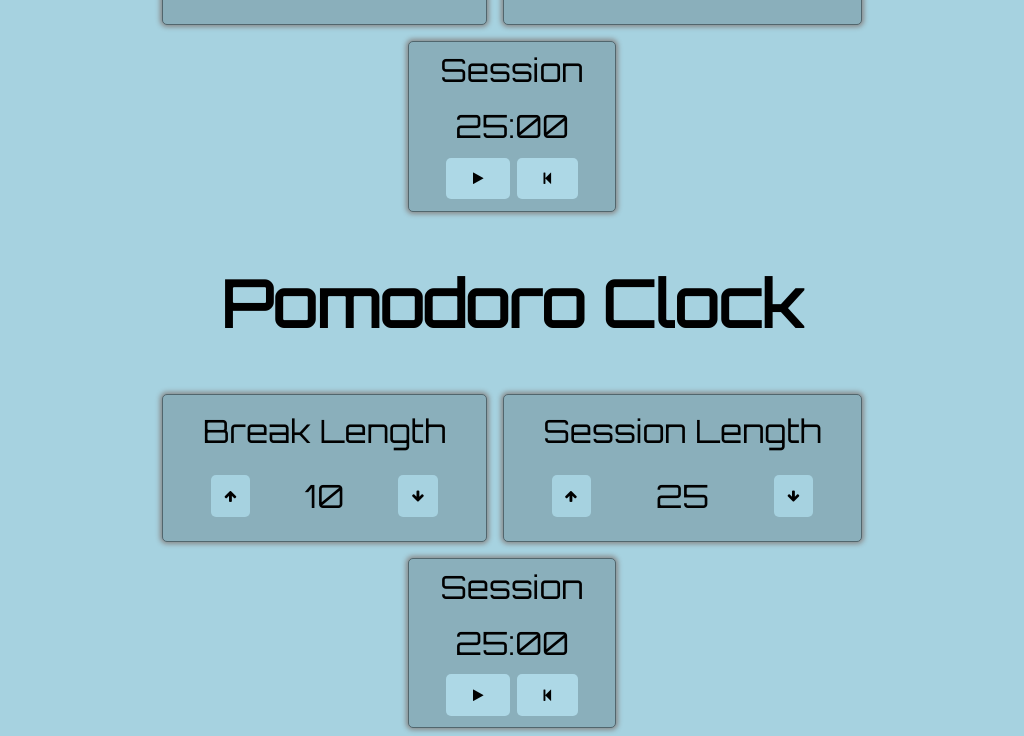
Test case: App tests › Decrements breaklength when break-decrement is clicked, and you can see the updated value
(page scrolled)
Click the button with id "break-decrement" at point(418, 496), box [398,476,438,517]
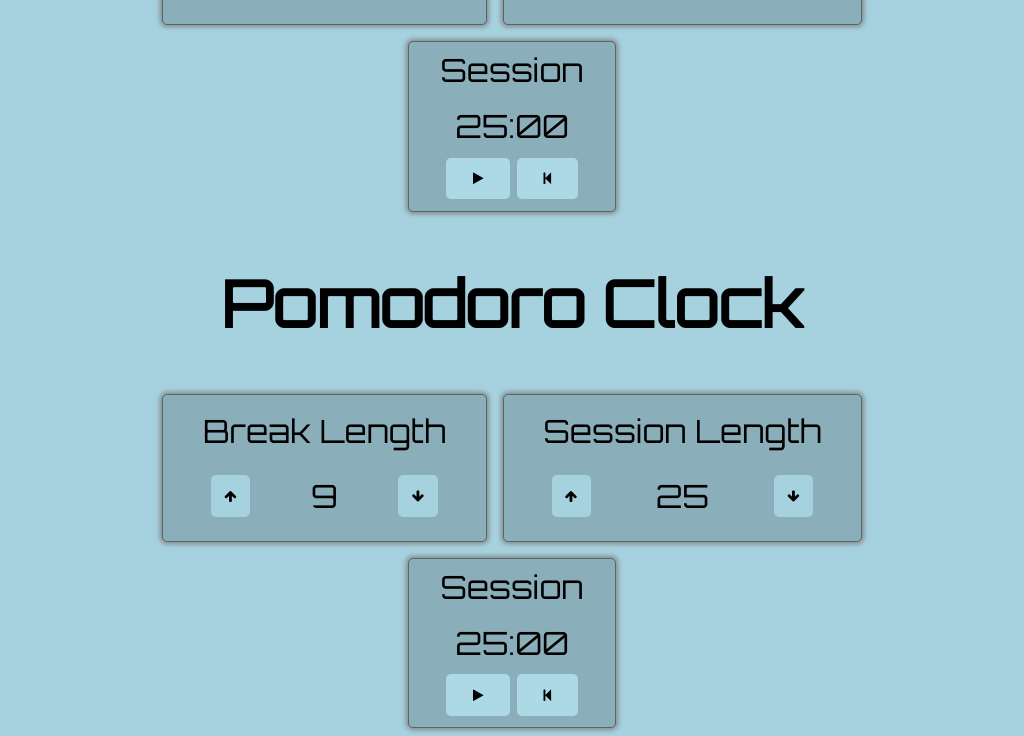
Expected: the text with id "break-length" reads "9", [311,476,338,516]
